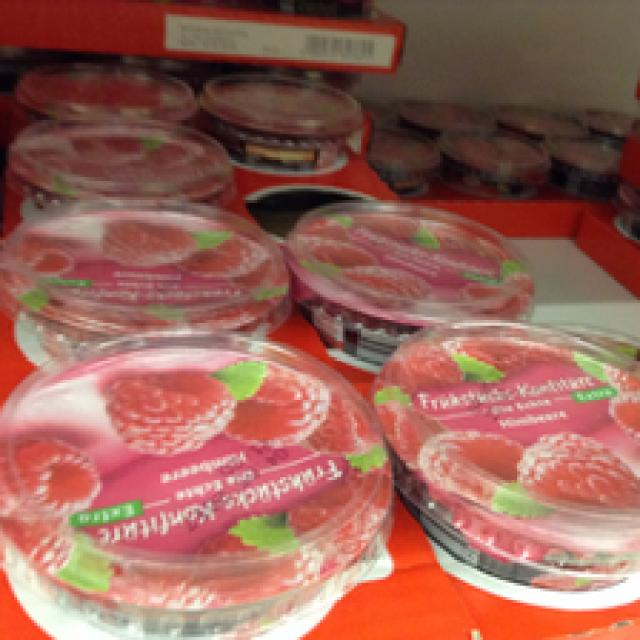groceries: (0, 323, 389, 637), (369, 314, 637, 583), (283, 194, 543, 357), (0, 197, 289, 337), (3, 112, 226, 197), (200, 60, 360, 169)
